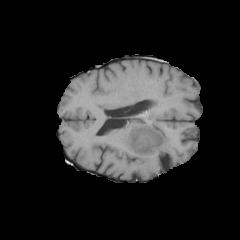glioma: (128, 119, 180, 168)
